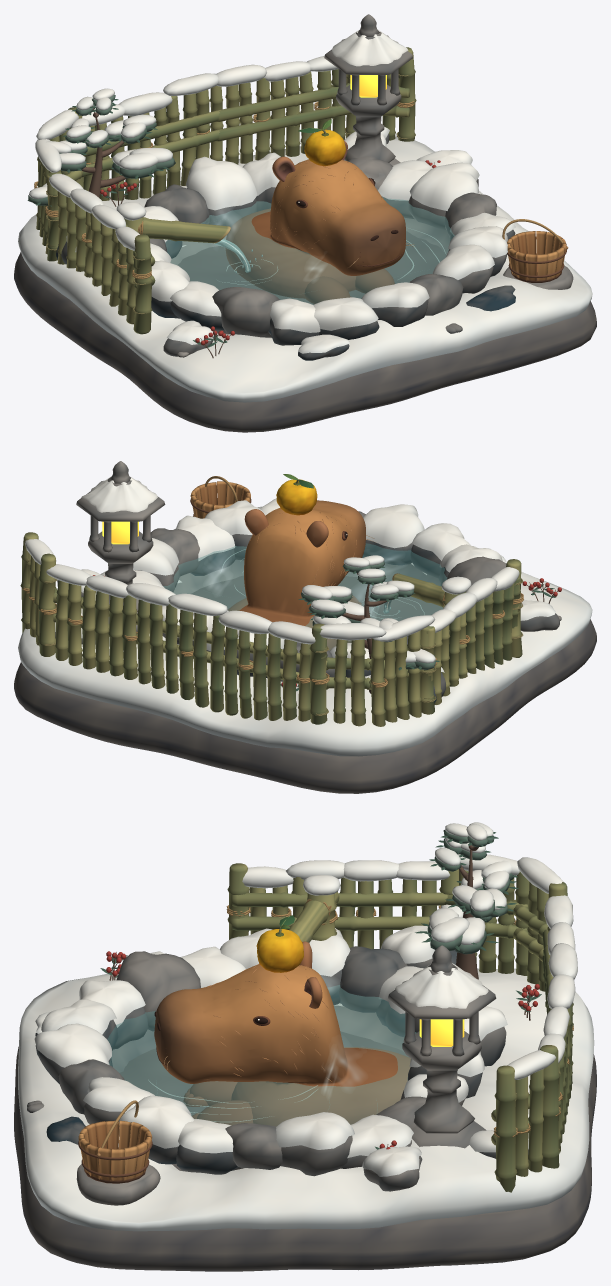
The picture shows the model from 3 angles, top to bottom: view 1: azimuth 30°, elevation 25°; view 2: azimuth 150°, elevation 25°; view 3: azimuth 270°, elevation 25°; orthographic projection. The views are drawn at different scales.
Parts seen in each view (by area): view 1: Continuous snowbank with a rolled edge, Chamfered slate and earth plinth, Fence · split vertical canes, Capybara · continuous skull, muzzle and shoulders, Translucent spring water · surface, Fence · snow on the bamboo tops, Fence · horizontal rails, Dwarf pine · snow-covered foliage, Pool stone 17 · snow mantle, Pool stone 03, Cedar bucket · stave assembly, Pool stone 12 · snow mantle (+39 smaller); view 2: Fence · split vertical canes, Chamfered slate and earth plinth, Continuous snowbank with a rolled edge, Capybara · continuous skull, muzzle and shoulders, Fence · snow on the bamboo tops, Translucent spring water · surface, Dwarf pine · snow-covered foliage, Pool stone 06 · snow mantle, Snow clinging to the lantern roof, Shallow stone basin, beneath the water, Fence · structural post.003, Fence · structural post.002 (+27 smaller); view 3: Continuous snowbank with a rolled edge, Chamfered slate and earth plinth, Capybara · continuous skull, muzzle and shoulders, Translucent spring water · surface, Fence · split vertical canes, Fence · snow on the bamboo tops, Fence · horizontal rails, Dwarf pine · snow-covered foliage, Cedar bucket · stave assembly, Pool stone 03, Pool stone 20, Snow clinging to the lantern roof (+46 smaller).
Boxes of the visible parts, x1=… form: Continuous snowbank with a rolled edge: x1=18, y1=136, x2=592, y2=402; Chamfered slate and earth plinth: x1=14, y1=231, x2=596, y2=432; Fence · split vertical canes: x1=36, y1=68, x2=400, y2=324; Capybara · continuous skull, muzzle and shoulders: x1=225, y1=159, x2=405, y2=298; Translucent spring water · surface: x1=165, y1=196, x2=454, y2=304; Fence · snow on the bamboo tops: x1=35, y1=56, x2=338, y2=250; Fence · horizontal rails: x1=61, y1=83, x2=409, y2=285; Dwarf pine · snow-covered foliage: x1=29, y1=88, x2=172, y2=198; Pool stone 17 · snow mantle: x1=186, y1=156, x2=257, y2=210; Pool stone 03: x1=212, y1=287, x2=279, y2=336; Cedar bucket · stave assembly: x1=507, y1=231, x2=566, y2=281; Pool stone 12 · snow mantle: x1=409, y1=162, x2=479, y2=210; Fence · split vertical canes: x1=25, y1=552, x2=520, y2=726; Chamfered slate and earth plinth: x1=14, y1=575, x2=596, y2=793; Continuous snowbank with a rolled edge: x1=18, y1=506, x2=592, y2=756; Capybara · continuous skull, muzzle and shoulders: x1=228, y1=500, x2=365, y2=651; Fence · snow on the bamboo tops: x1=25, y1=539, x2=519, y2=644; Translucent spring water · surface: x1=163, y1=543, x2=446, y2=650; Dwarf pine · snow-covered foliage: x1=302, y1=555, x2=435, y2=663; Pool stone 06 · snow mantle: x1=363, y1=504, x2=424, y2=548; Snow clinging to the lantern roof: x1=81, y1=476, x2=157, y2=512; Shallow stone basin, beneath the water: x1=173, y1=559, x2=440, y2=681; Fence · structural post.003: x1=38, y1=553, x2=56, y2=656; Fence · structural post.002: x1=309, y1=623, x2=327, y2=724; Continuous snowbank with a rolled edge: x1=18, y1=968, x2=594, y2=1231; Chamfered slate and earth plinth: x1=14, y1=1031, x2=596, y2=1271; Capybara · continuous skull, muzzle and shoulders: x1=154, y1=964, x2=410, y2=1126; Translucent spring water · surface: x1=107, y1=985, x2=416, y2=1126; Fence · split vertical canes: x1=248, y1=870, x2=573, y2=1176; Fence · snow on the bamboo tops: x1=242, y1=854, x2=577, y2=1079; Fence · horizontal rails: x1=232, y1=892, x2=553, y2=1145; Dwarf pine · snow-covered foliage: x1=429, y1=822, x2=511, y2=944; Cedar bucket · stave assembly: x1=78, y1=1120, x2=152, y2=1181; Pool stone 03: x1=116, y1=951, x2=200, y2=1031; Pool stone 20: x1=339, y1=946, x2=407, y2=1012; Snow clinging to the lantern roof: x1=395, y1=963, x2=488, y2=1008.
Size of the model in its own units: 1.93 by 1.02 by 1.9.
35 materials, 1 textured.
